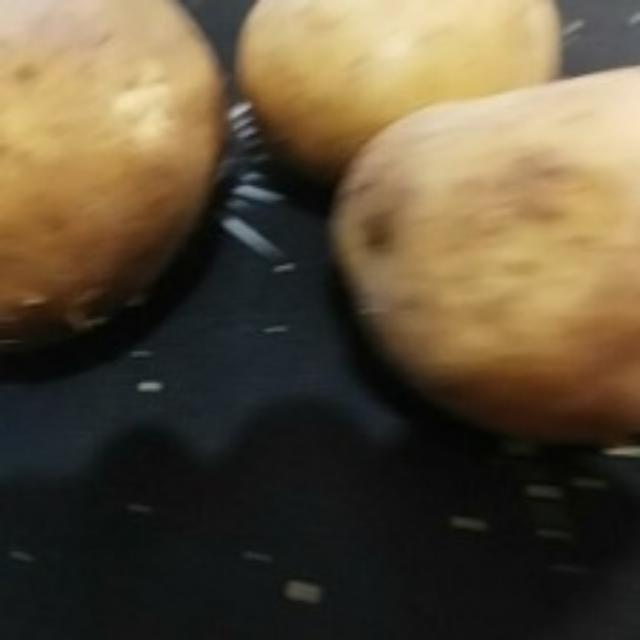Damaged potato: (324, 68, 640, 464), (0, 0, 228, 388)
Potato: (234, 0, 572, 180)
